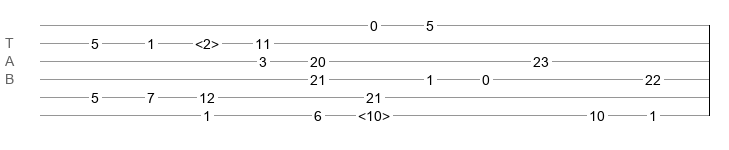0: (370, 18, 378, 28), (482, 72, 490, 82)
1: (147, 36, 155, 46), (203, 108, 211, 118), (426, 72, 434, 82), (649, 108, 657, 118)
10: (589, 108, 605, 118)
11: (255, 36, 271, 46)
12: (199, 90, 215, 100)
20: (310, 54, 326, 64)
21: (310, 72, 326, 82), (366, 90, 382, 100)
22: (645, 72, 661, 82)
23: (533, 54, 549, 64)
3: (259, 54, 267, 64)
5: (91, 36, 99, 46), (91, 90, 99, 100), (426, 18, 434, 28)
6: (314, 108, 322, 118)
7: (147, 90, 155, 100)
harmonic: (358, 108, 390, 118), (195, 36, 219, 46)
